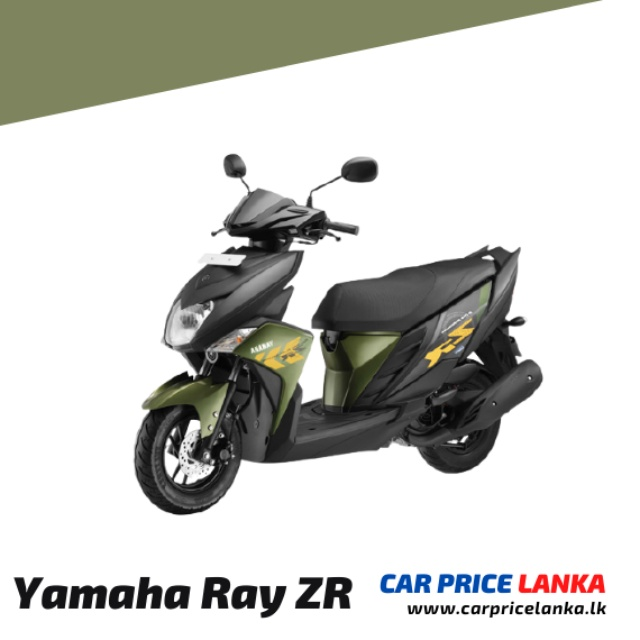Motorcycle: (132, 155, 543, 515)
